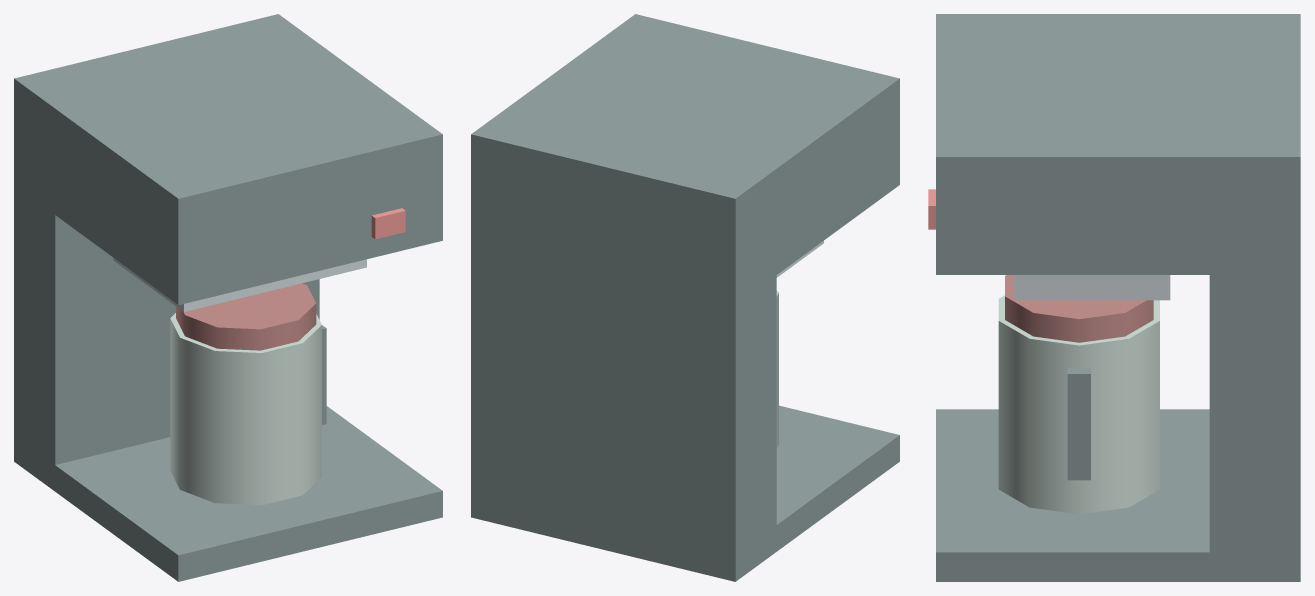
File: coffeeMakerDrip.glb
3 views of the same model, side by side, from view 1: azimuth 30°, elevation 25°; view 2: azimuth 150°, elevation 25°; view 3: azimuth 270°, elevation 25° (orthographic). The views are drawn at different scales.
Parts seen in each view (by area): view 1: coffeeMakerDrip; view 2: coffeeMakerDrip; view 3: coffeeMakerDrip.
Part boxes in pixels (x1,y1,x2,y2): coffeeMakerDrip: (14, 14, 442, 581); coffeeMakerDrip: (471, 14, 899, 581); coffeeMakerDrip: (928, 14, 1300, 581).
Size of the model in its own units: 0.13 by 0.18 by 0.143.
